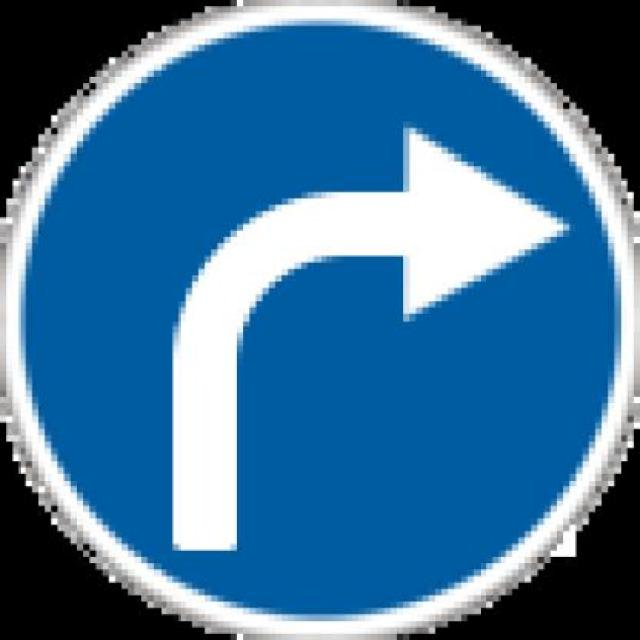Turn right ahead: (0, 0, 634, 634)
